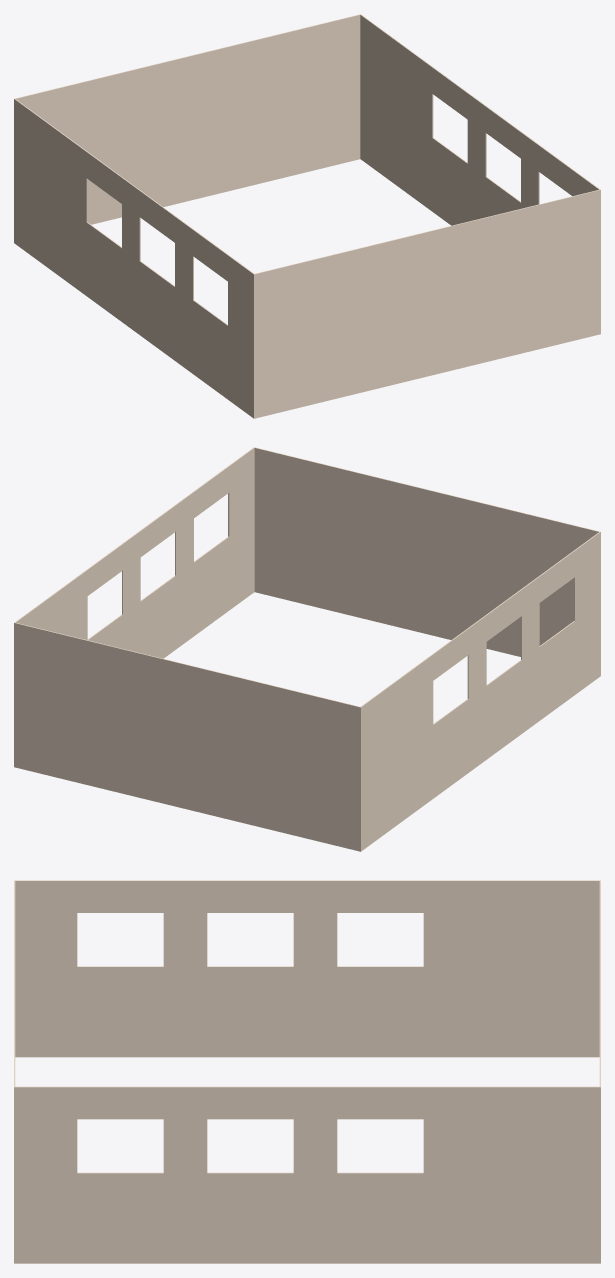
The model's file is dinding.fbx.
3 views of the same model, one above another, from view 1: azimuth 30°, elevation 25°; view 2: azimuth 150°, elevation 25°; view 3: azimuth 270°, elevation 25° (orthographic). The views are drawn at different scales.
Parts seen in each view (by area): view 1: dinding; view 2: dinding; view 3: dinding.
Part boxes in pixels (left/top/right/bottom): dinding: left=14, top=14, right=600, bottom=418; dinding: left=14, top=447, right=600, bottom=851; dinding: left=14, top=880, right=600, bottom=1263.
Size of the model in its own units: 1006 by 400 by 1206.
